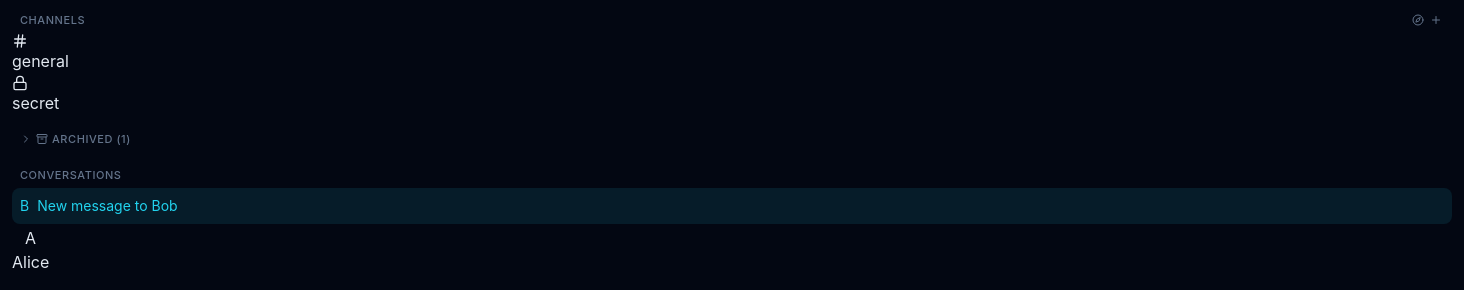
Test: ConversationList — channels sidebar › shows an open draft DM first among conversations, selected, until a conversation is opened
The image size is (1464, 290).
Step 1. Click the text "Alice" → x=31, y=262, box [12,250,49,274]
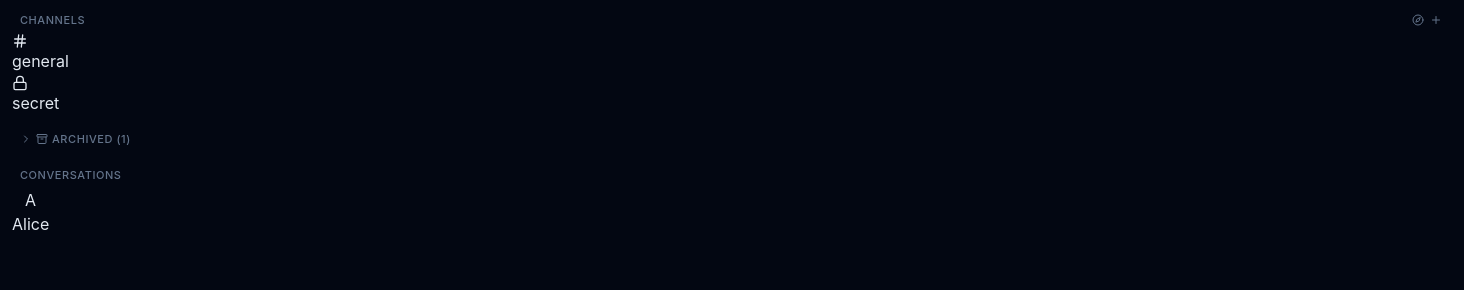
Now the button "New message to Bob" is gone
